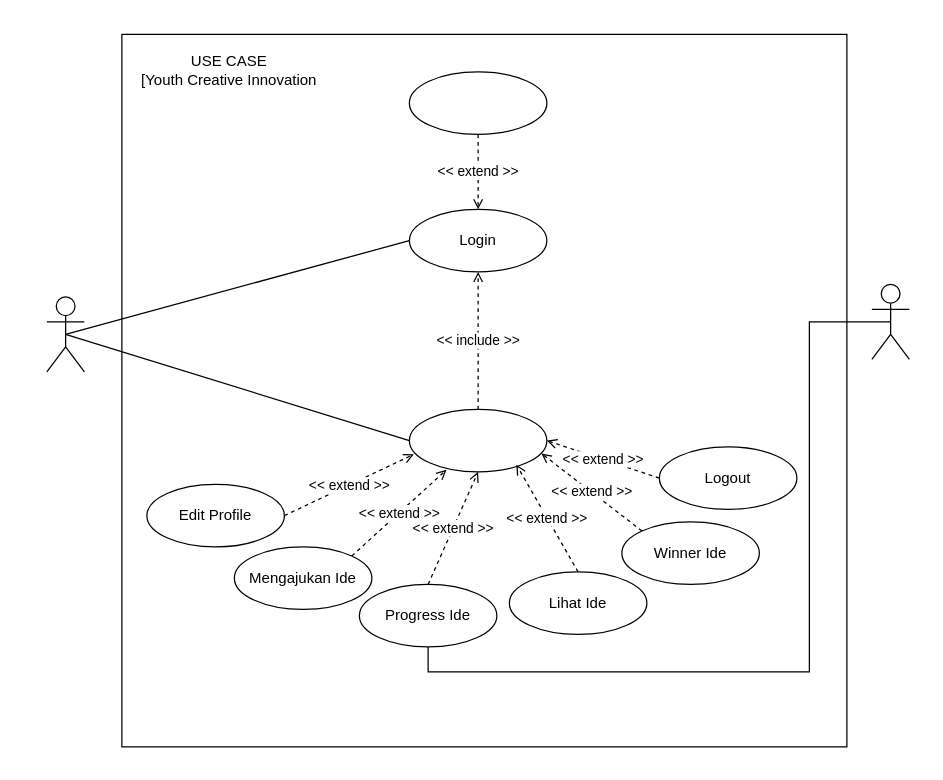
Image size: 943x780. Some labels were removed from this diagram. Each missing label, with the box of its shape:
Admin: (871, 283, 909, 359)
Dashboard: (408, 408, 547, 472)
Pengguna: (46, 296, 84, 372)
Register: (408, 71, 547, 134)
